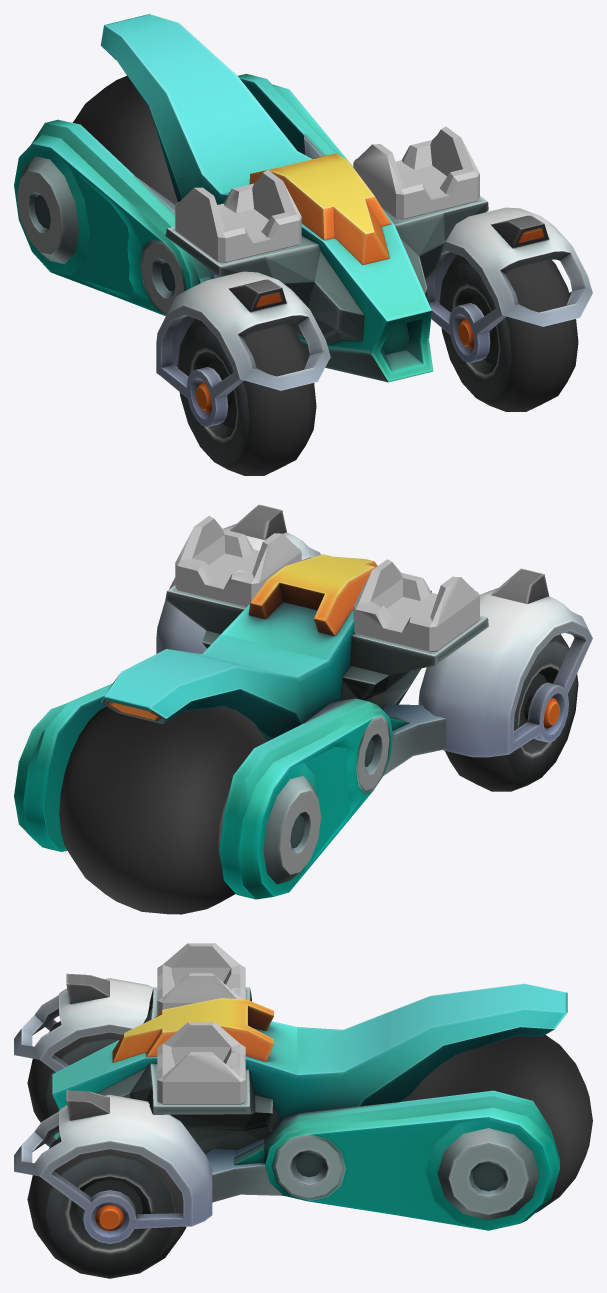
The model's file is body_ch202_a3_destructable.fbx.
3 views of the same model, one above another, from view 1: azimuth 30°, elevation 25°; view 2: azimuth 150°, elevation 25°; view 3: azimuth 270°, elevation 25° (orthographic). The views are drawn at different scales.
Parts seen in each view (by area): view 1: Cube.444, Cube.450, Cube.438, Cube.445, wheel_rolla.017, wheel_rolla.015, wheel_rolla.016, wheel_rolla.018, Sphere.009, Cube.447, Cube.448; view 2: Sphere.009, Cube.444, Cube.450, wheel_rolla.017, Cube.438, Cube.448, Cube.445, wheel_rolla.016, wheel_rolla.018, Cube.447; view 3: Cube.448, Cube.444, wheel_rolla.018, wheel_rolla.015, Sphere.009, Cube.438, Cube.445, wheel_rolla.017, Cube.446, wheel_rolla.016.
Part boxes in pixels (x1,y1,x2,y2): Cube.444: (100,25,488,382); Cube.450: (14,119,221,316); Cube.438: (175,126,479,262); Cube.445: (104,14,312,194); wheel_rolla.017: (156,271,330,426); wheel_rolla.015: (439,254,578,411); wheel_rolla.016: (177,318,316,475); wheel_rolla.018: (425,207,592,363); Sphere.009: (73,76,177,204); Cube.447: (70,168,132,295); Cube.448: (238,73,353,166); Sphere.009: (59,706,266,914); Cube.444: (101,554,488,741); Cube.450: (219,698,446,899); wheel_rolla.017: (418,568,592,757); Cube.438: (175,515,479,652); Cube.448: (14,683,112,851); Cube.445: (104,634,328,711); wheel_rolla.016: (445,634,578,791); wheel_rolla.018: (156,504,320,653); Cube.447: (304,746,350,869); Cube.448: (205,1090,559,1230); Cube.444: (52,987,566,1154); wheel_rolla.018: (14,1090,212,1243); wheel_rolla.015: (27,1137,186,1278); Sphere.009: (403,1035,592,1212); Cube.438: (157,943,245,1104); Cube.445: (297,983,567,1074); wheel_rolla.017: (14,973,153,1072); Cube.446: (273,1134,345,1200); wheel_rolla.016: (27,1021,122,1122).
Size of the model in its own units: 175 by 114 by 273.
